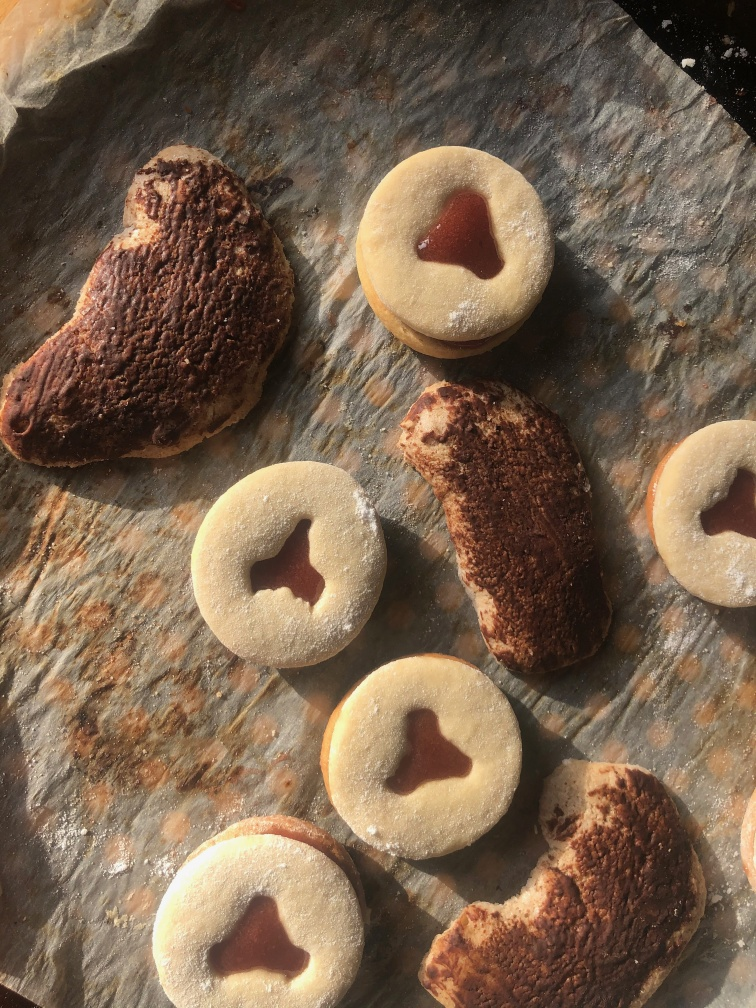christmas shortbread with jam: (346, 138, 555, 362), (182, 455, 392, 675), (147, 811, 366, 1008), (318, 654, 522, 860), (638, 415, 756, 611)
weird #1: (3, 143, 299, 473), (414, 756, 714, 1006), (394, 374, 622, 688)
